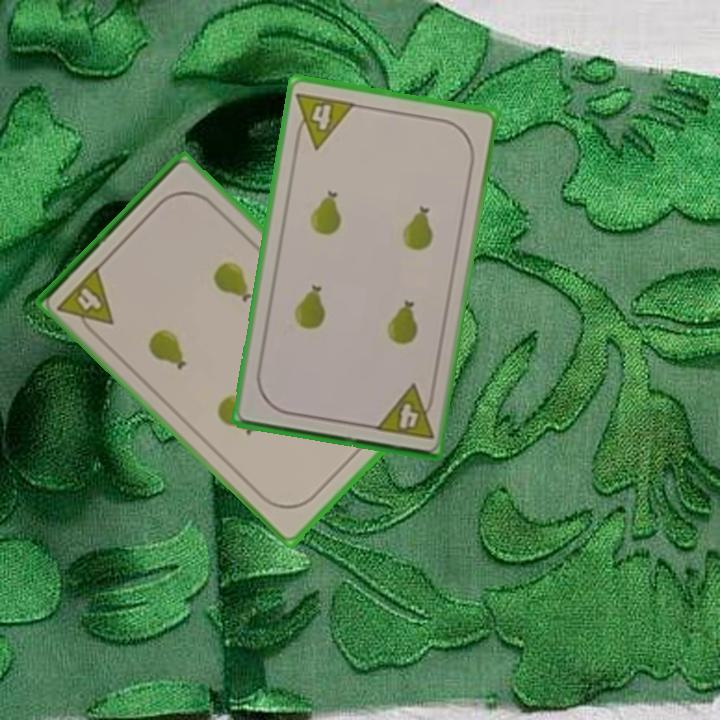4p: (54, 262, 117, 341), (290, 88, 358, 152), (371, 381, 438, 442)
